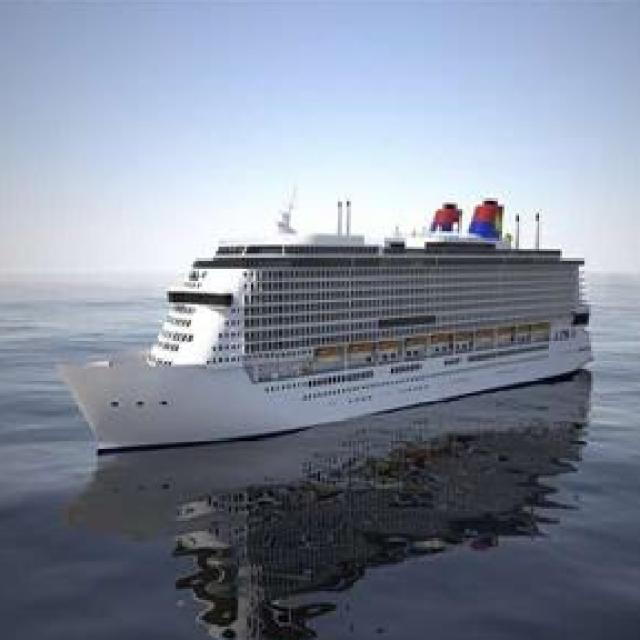passenger ship: (64, 197, 596, 454)
